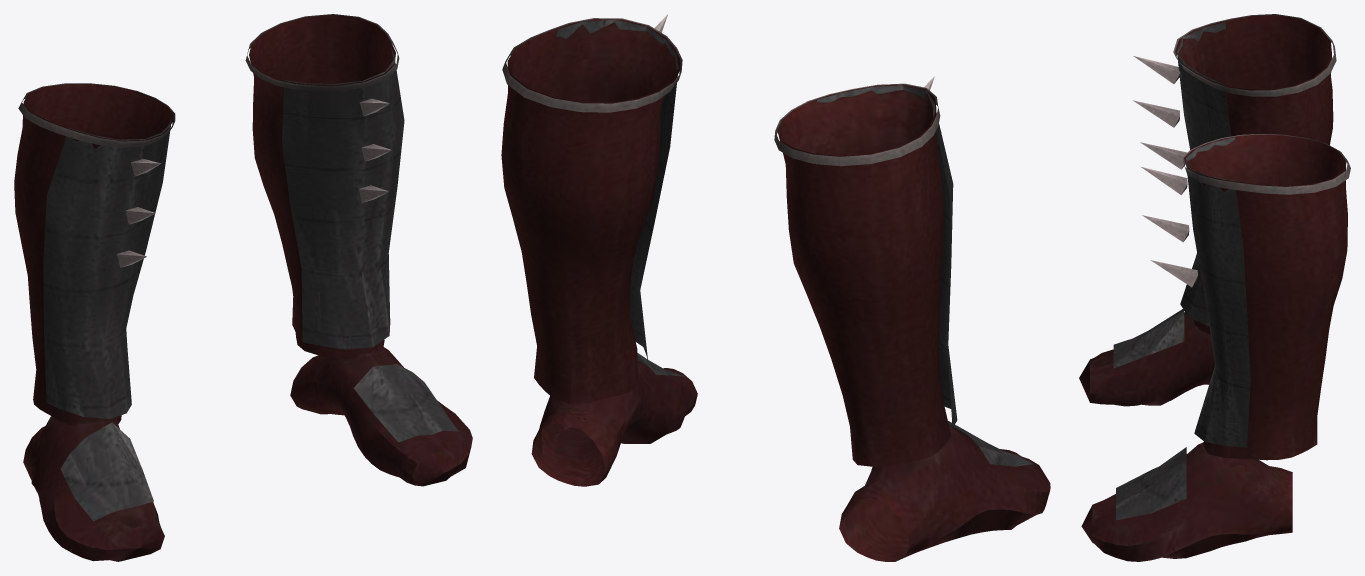
Rendered from Botas_de_Placas_nivel100.glb.
3 views of the same model, side by side, from view 1: azimuth 30°, elevation 25°; view 2: azimuth 150°, elevation 25°; view 3: azimuth 270°, elevation 25° (orthographic). The views are drawn at different scales.
Parts seen in each view (by area): view 1: botas_de_placas_nivel100; view 2: botas_de_placas_nivel100; view 3: botas_de_placas_nivel100.
Boxes of the visible parts, x1,y1,x2,y2 form: botas_de_placas_nivel100: (14,14,472,561); botas_de_placas_nivel100: (501,14,1050,561); botas_de_placas_nivel100: (1079,14,1350,561).
Bounding box in the file's own units: 0.5105 × 0.4505 × 0.2972.
Materials: 1 (1 with a texture image).
